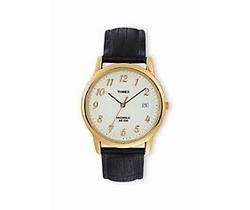watch: (72, 32, 173, 184)
